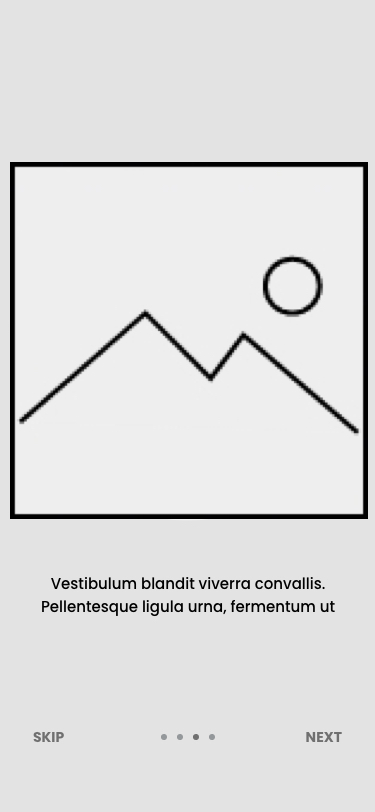Image: (10, 163, 369, 520)
PageIndicator: (161, 733, 216, 740)
Text: (42, 576, 336, 618), (306, 731, 342, 742), (34, 731, 65, 742)
